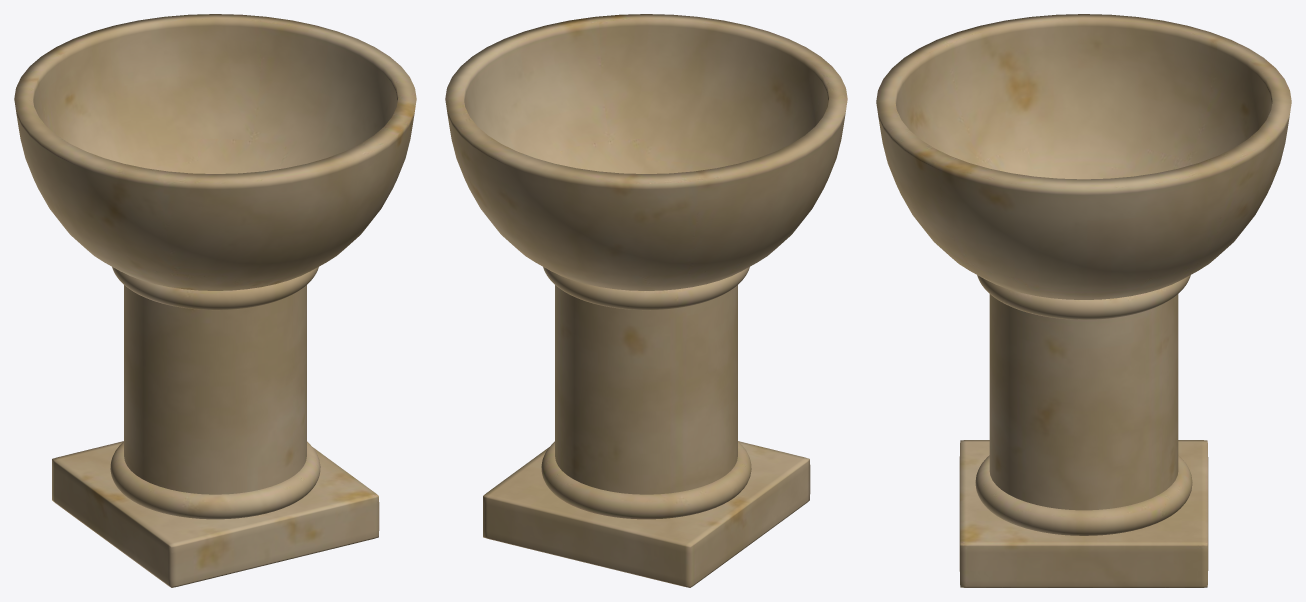
Rendered from firepit1 unity copy.fbx.
3 renders of one model, left to right at view 1: azimuth 30°, elevation 25°; view 2: azimuth 150°, elevation 25°; view 3: azimuth 270°, elevation 25°, orthographic. The views are drawn at different scales.
Visible parts, largest first — view 1: stone firepit; view 2: stone firepit; view 3: stone firepit.
Boxes of the visible parts, x1,y1,x2,y2 form: stone firepit: (14, 14, 416, 587); stone firepit: (445, 14, 847, 587); stone firepit: (876, 14, 1291, 587).
Bounding box in the file's own units: 43.5 × 50.42 × 43.5.
